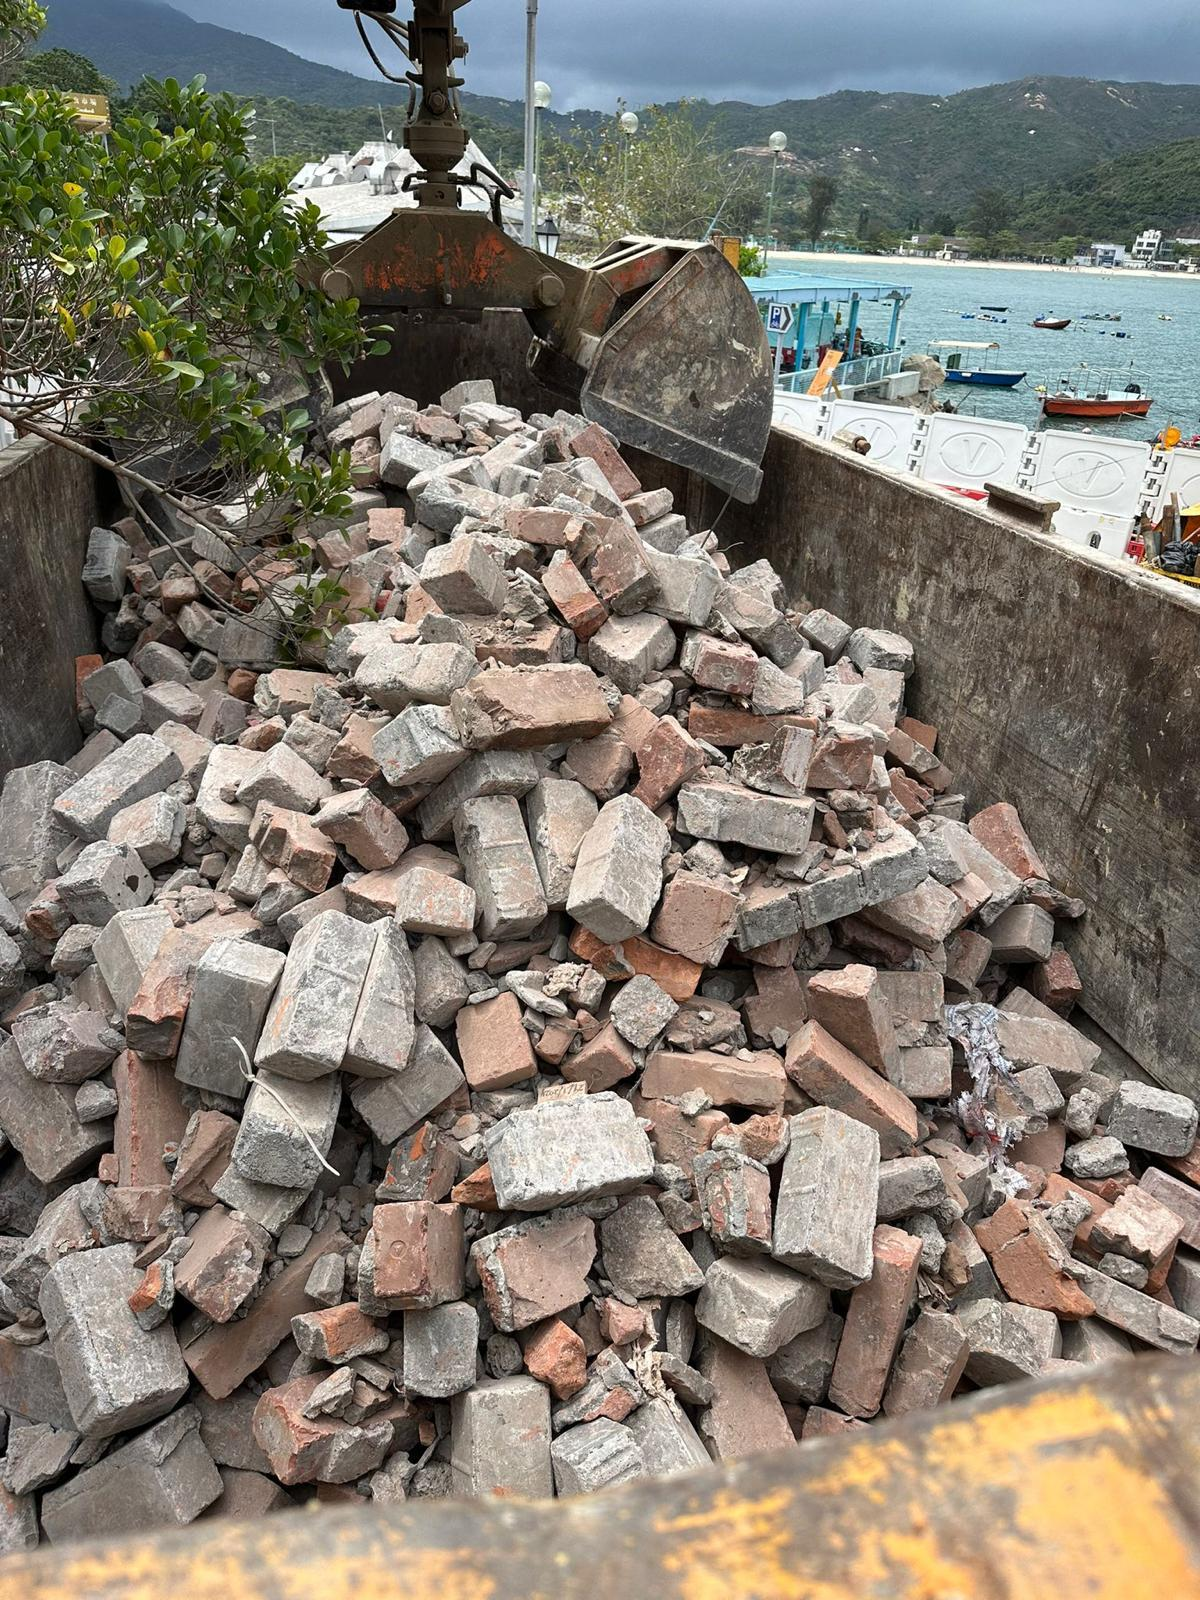dry: (0, 409, 1172, 1542)
